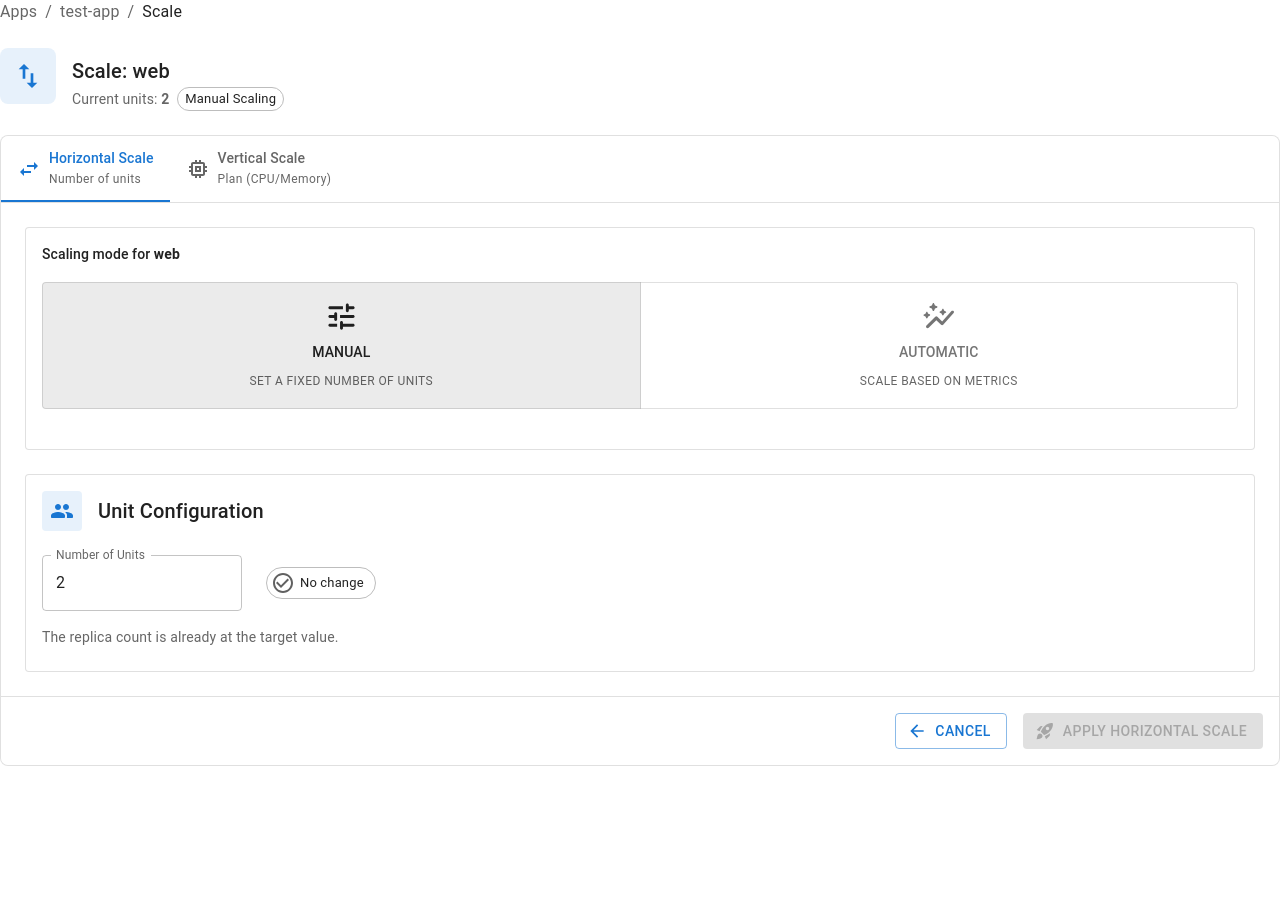
Test case: AppScaleView › validates autoscale - apply disabled when minUnits is 0
Note: Switch to automatic
Click the button "Automatic Scale based on metrics" at [939, 345], box left=640, top=282, right=1238, bottom=409
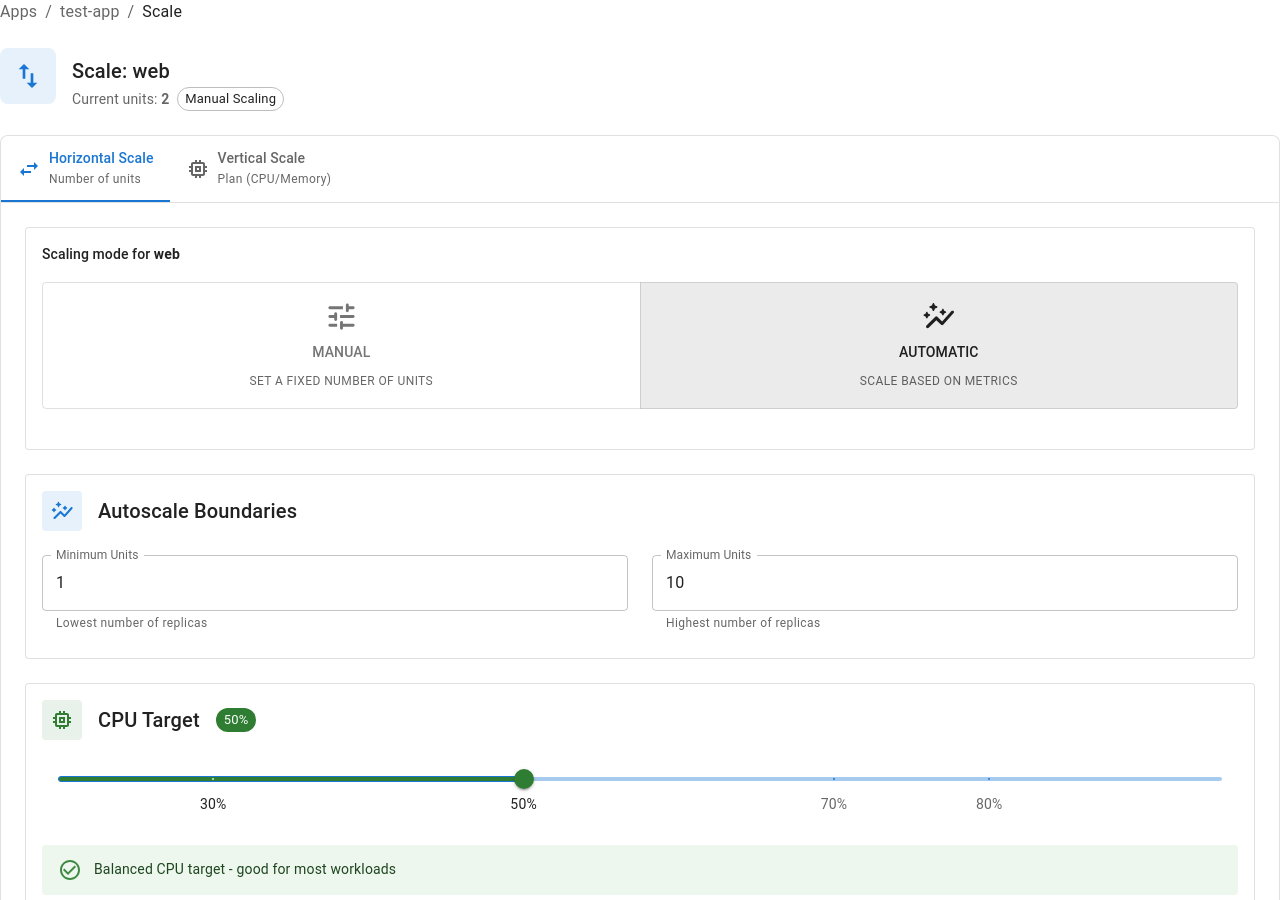
Replace the text in the number field labelled "Minimum Units" with "0" at [335, 583], box left=42, top=555, right=628, bottom=611
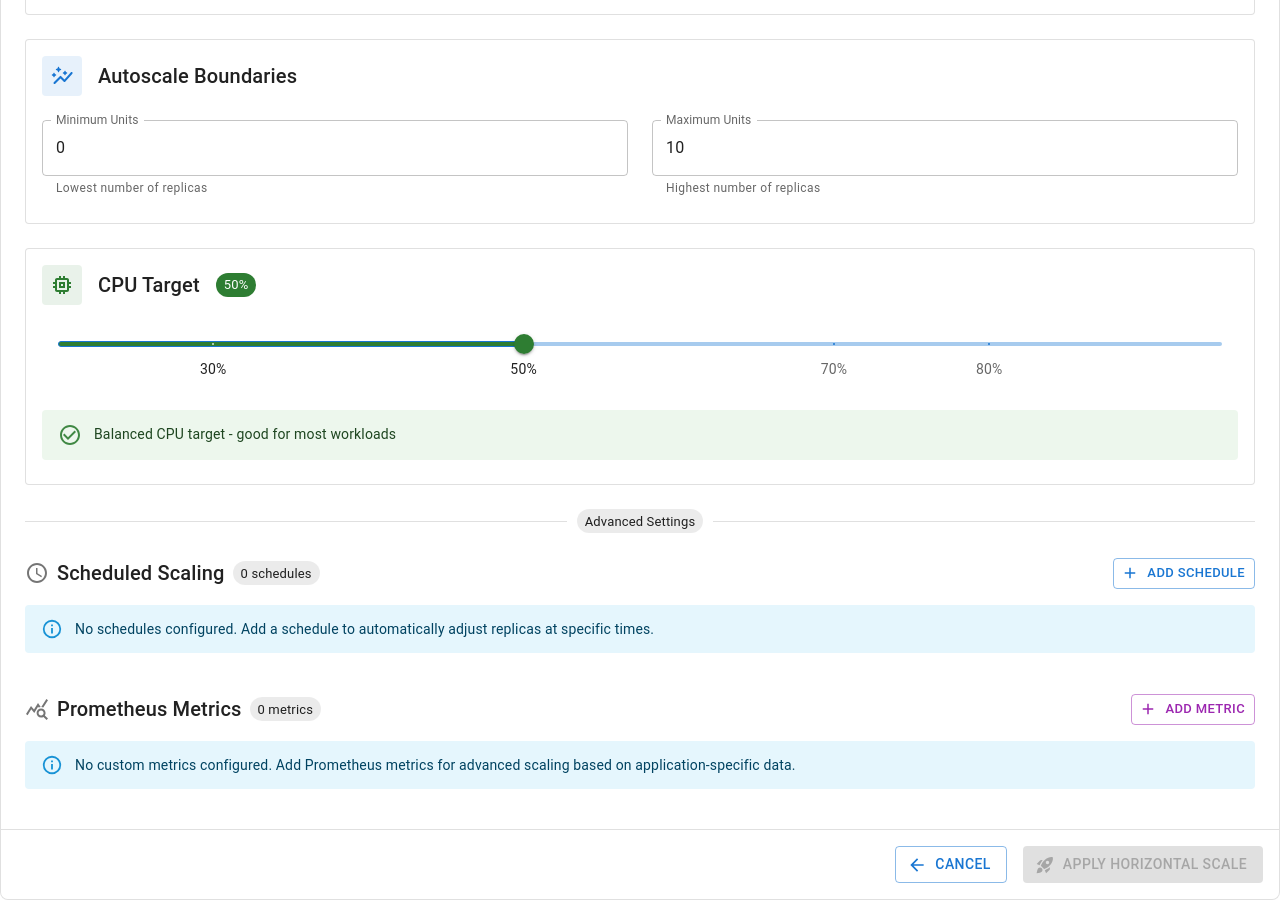
Expected: the button "Apply Horizontal Scale" is disabled, left=1023, top=846, right=1263, bottom=883
